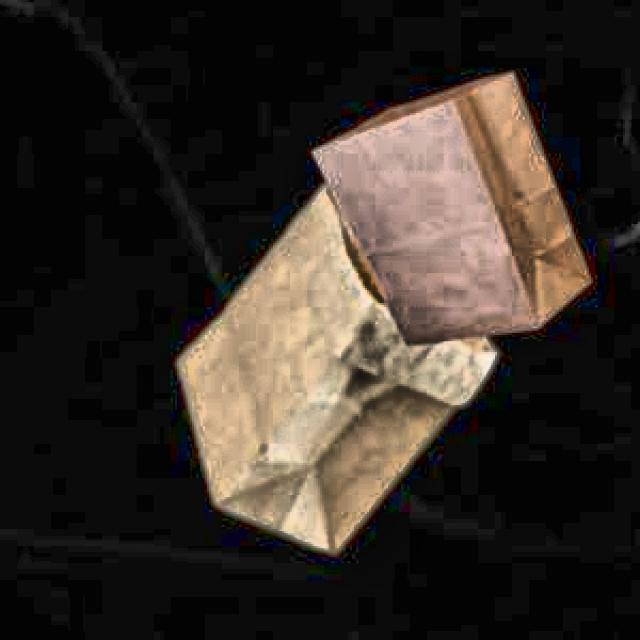Paper-bag: (132, 203, 484, 568), (305, 67, 616, 360)
